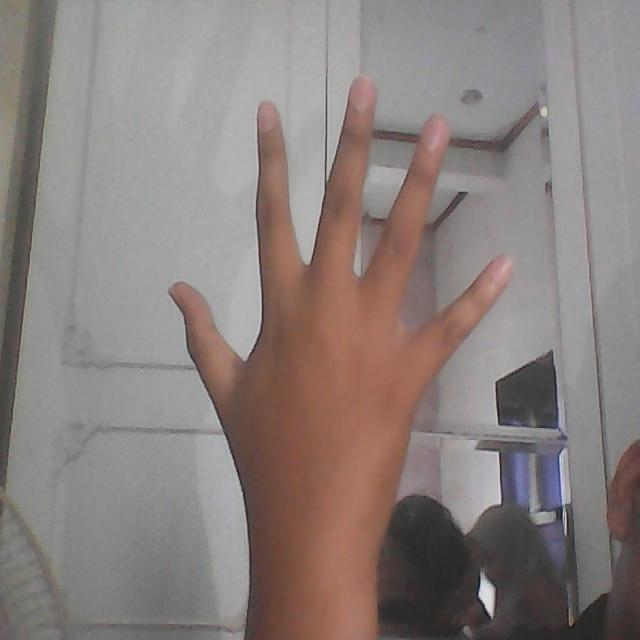hand: (159, 79, 521, 600)
